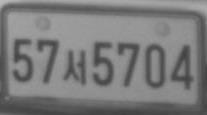0: (144, 43, 166, 88)
4: (170, 44, 194, 90)
5: (11, 37, 33, 82), (92, 41, 114, 86)
7: (36, 38, 60, 85), (117, 41, 140, 87)
서: (63, 49, 87, 86)
